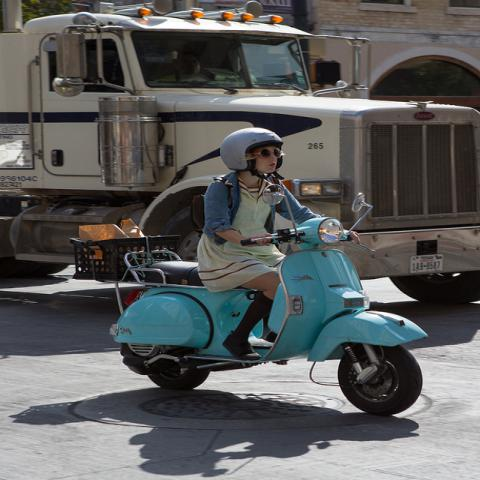motorcycle: (112, 192, 428, 414)
truck: (1, 0, 479, 303)
